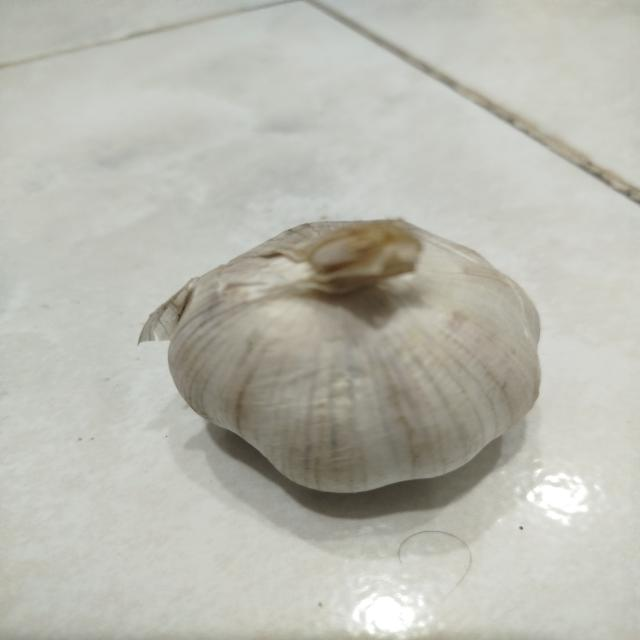garlic: (137, 217, 542, 494)
